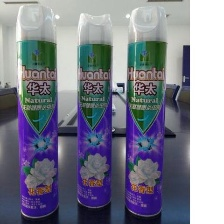aerosol_cans: (13, 2, 62, 221), (123, 3, 170, 220), (74, 10, 115, 210)
